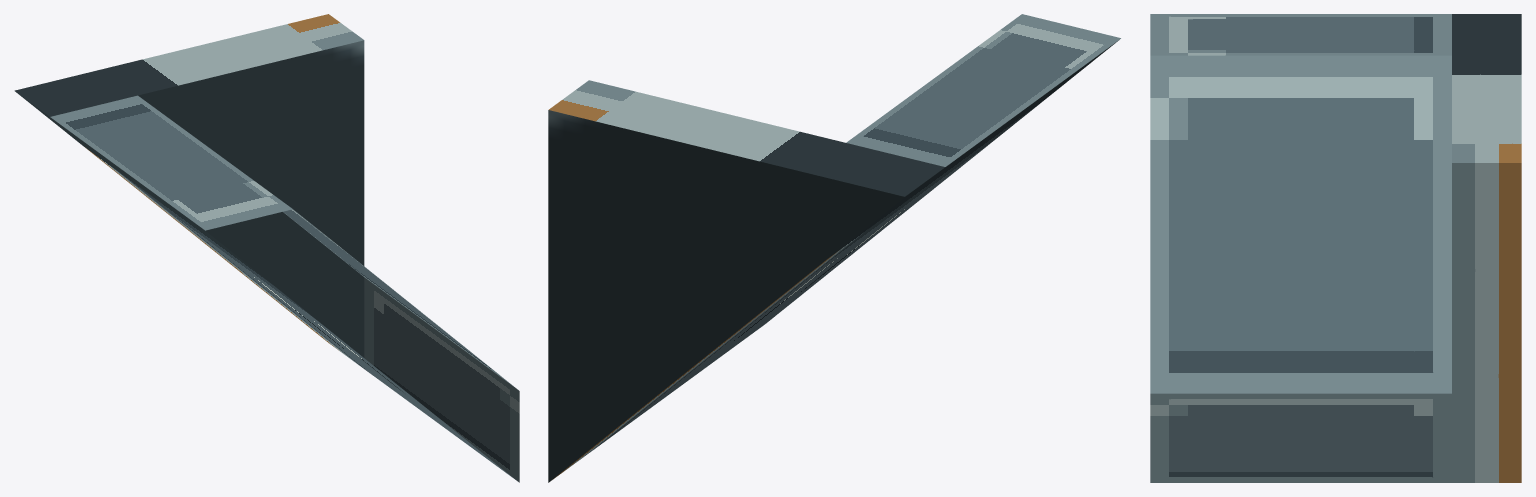
Rendered from casing_d7_front_x-3_y-2.obj.
3 views of the same model, side by side, from view 1: azimuth 30°, elevation 25°; view 2: azimuth 150°, elevation 25°; view 3: azimuth 270°, elevation 25° (orthographic). The views are drawn at different scales.
Visible parts, largest first — view 1: d7_front_x-3_y-2; view 2: d7_front_x-3_y-2; view 3: d7_front_x-3_y-2.
Boxes of the visible parts, left/top/right/bottom form: d7_front_x-3_y-2: left=14, top=14, right=519, bottom=482; d7_front_x-3_y-2: left=548, top=14, right=1120, bottom=482; d7_front_x-3_y-2: left=1150, top=14, right=1521, bottom=482.
Bounding box in the file's own units: 0.9497 × 0.9497 × 1.
